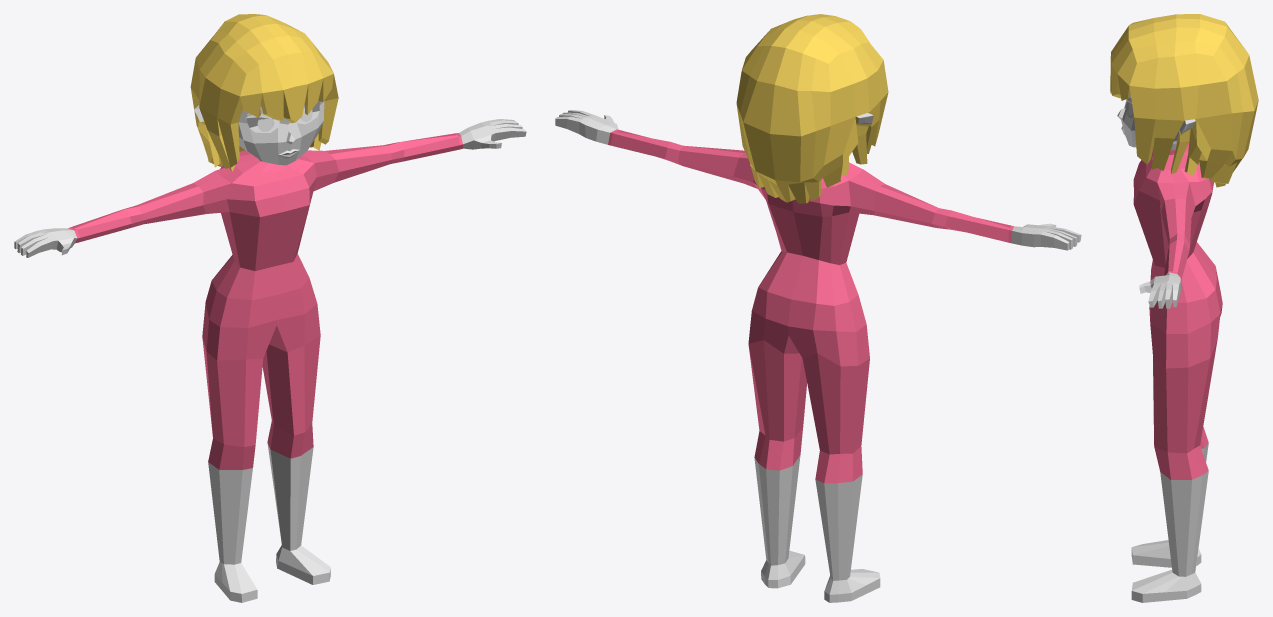
Rendered from GIRLdaf2.fbx.
3 renders of one model, left to right at view 1: azimuth 30°, elevation 25°; view 2: azimuth 150°, elevation 25°; view 3: azimuth 270°, elevation 25°, orthographic. The views are drawn at different scales.
Visible parts, largest first — view 1: Cube.002, Cube.001, Cube.003; view 2: Cube.002, Cube.001, Cube.003; view 3: Cube.002, Cube.001, Cube.003.
Part boxes in pixels (x1,y1,x2,y2): Cube.002: (68, 133, 463, 602); Cube.001: (190, 14, 338, 171); Cube.003: (14, 119, 526, 257); Cube.002: (608, 129, 1013, 602); Cube.001: (736, 14, 888, 203); Cube.003: (555, 110, 1081, 250); Cube.002: (1131, 140, 1222, 602); Cube.001: (1110, 14, 1258, 187); Cube.003: (1139, 272, 1181, 308).
Bounding box in the file's own units: 993 × 1047 × 252.
